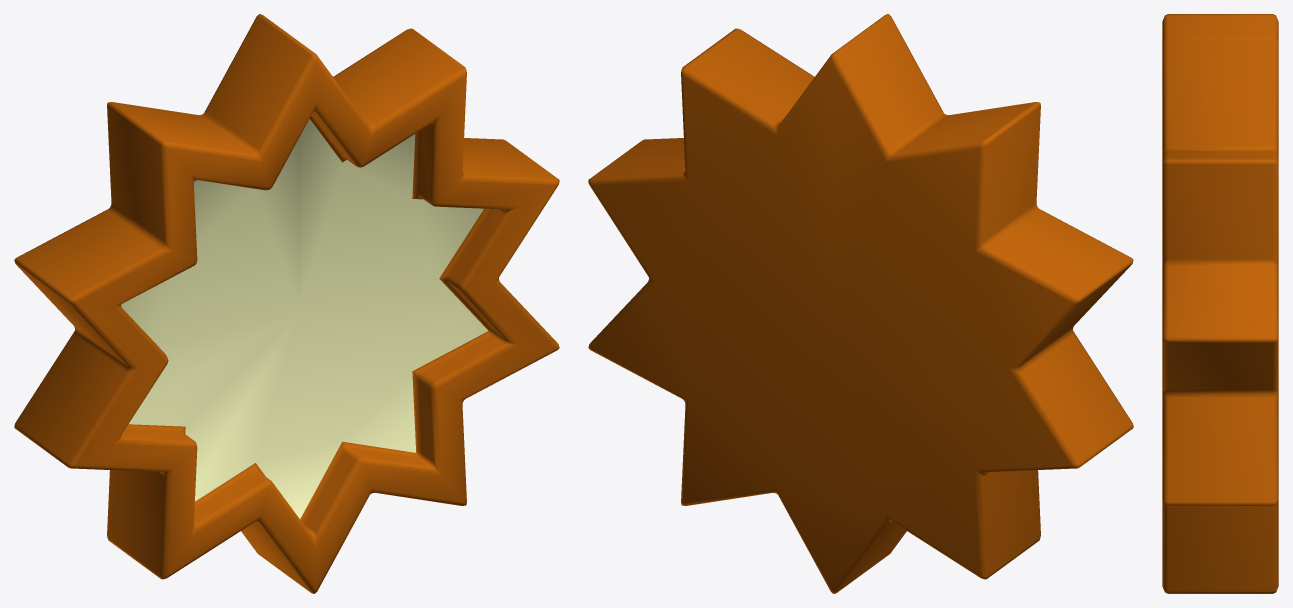
File: zvezda.fbx
3 views of the same model, side by side, from view 1: azimuth 30°, elevation 25°; view 2: azimuth 150°, elevation 25°; view 3: azimuth 270°, elevation 25° (orthographic).
Parts seen in each view (by area): view 1: zvezda; view 2: zvezda; view 3: zvezda.
Boxes of the visible parts, bbox=[...] form: zvezda: bbox=[14, 14, 559, 593]; zvezda: bbox=[588, 14, 1133, 593]; zvezda: bbox=[1162, 14, 1278, 593].
Size of the model in its own units: 240 by 253 by 49.62.
